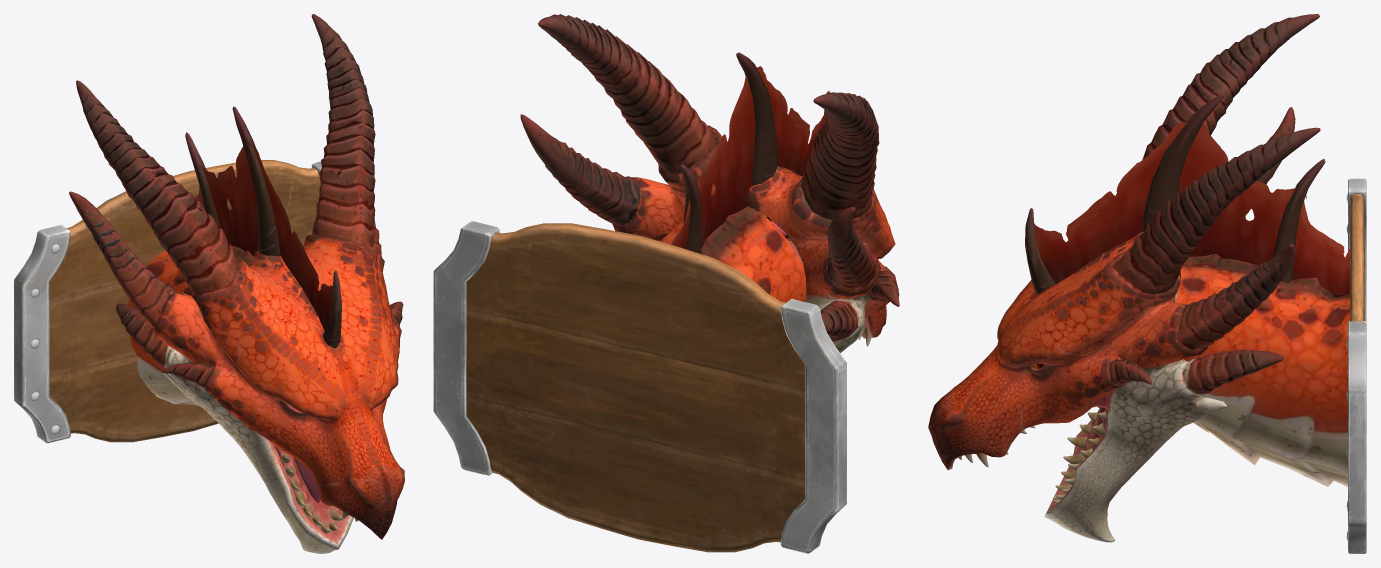
The picture shows the model from 3 angles, left to right: view 1: azimuth 30°, elevation 25°; view 2: azimuth 150°, elevation 25°; view 3: azimuth 270°, elevation 25°; orthographic projection. The views are drawn at different scales.
Visible parts, largest first — view 1: SM_Trophy_Plaque_RedDragon_LOD0; view 2: SM_Trophy_Plaque_RedDragon_LOD0; view 3: SM_Trophy_Plaque_RedDragon_LOD0.
Part boxes in pixels (<box>): SM_Trophy_Plaque_RedDragon_LOD0: <box>14,14,404,553</box>; SM_Trophy_Plaque_RedDragon_LOD0: <box>433,14,899,553</box>; SM_Trophy_Plaque_RedDragon_LOD0: <box>928,14,1366,553</box>.
Bounding box in the file's own units: 1.95 × 2.36 × 2.
Materials: 4 (4 with a texture image).
